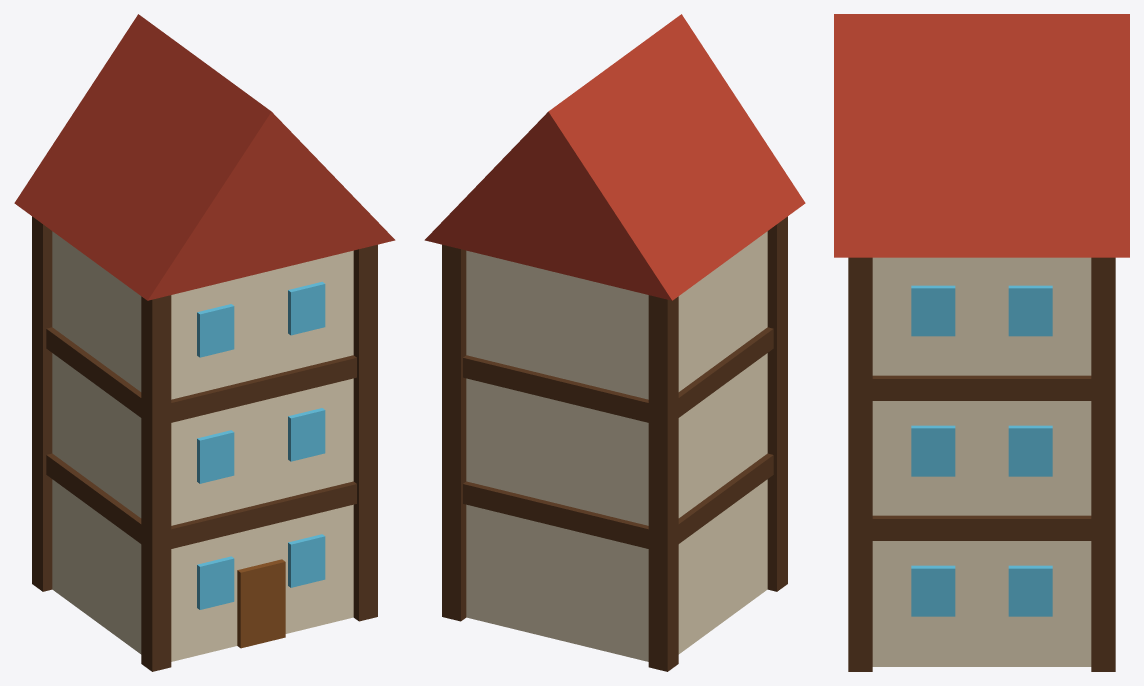
Rendered from city_house_a.glb.
3 renders of one model, left to right at view 1: azimuth 30°, elevation 25°; view 2: azimuth 150°, elevation 25°; view 3: azimuth 270°, elevation 25°, orthographic. The views are drawn at different scales.
Parts seen in each view (by area): view 1: beams; view 2: beams; view 3: beams.
Boxes of the visible parts, x1,y1,x2,y2 form: beams: (14,14,395,671); beams: (424,14,805,671); beams: (834,14,1129,671).
Bounding box in the file's own units: 1.44 × 2.98 × 1.34.
